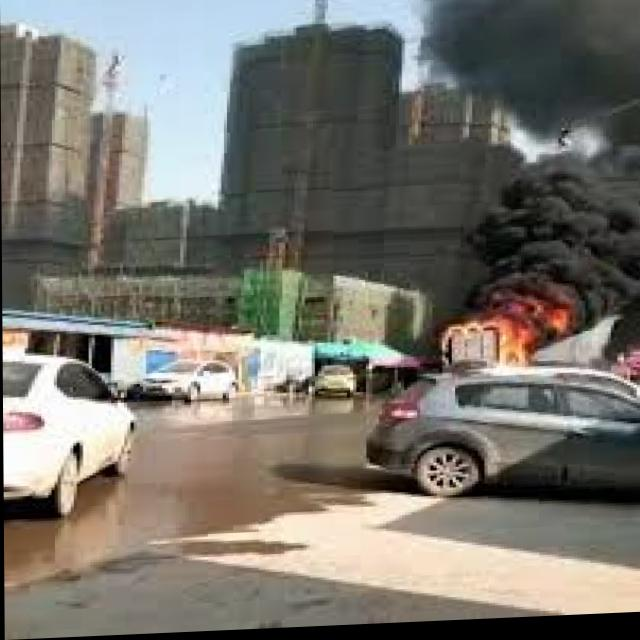fire: (432, 290, 598, 406)
